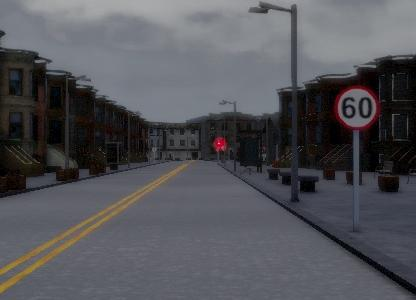Speed_60: (333, 83, 381, 131)
